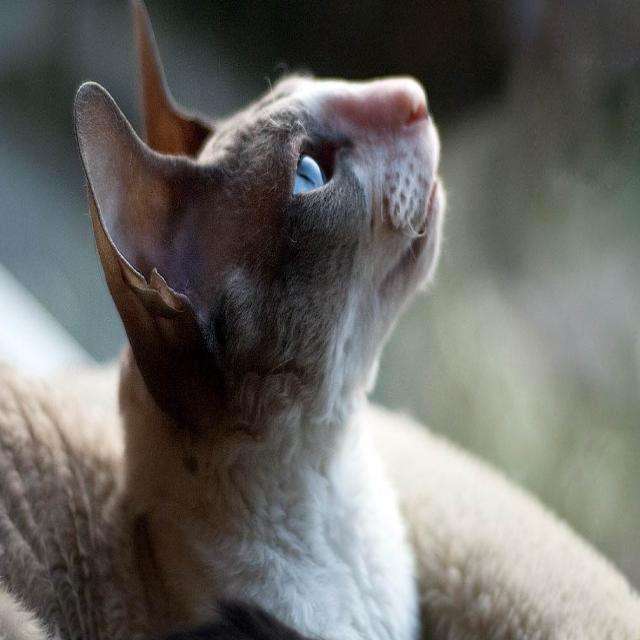Cornish Rex: (0, 0, 453, 640)
